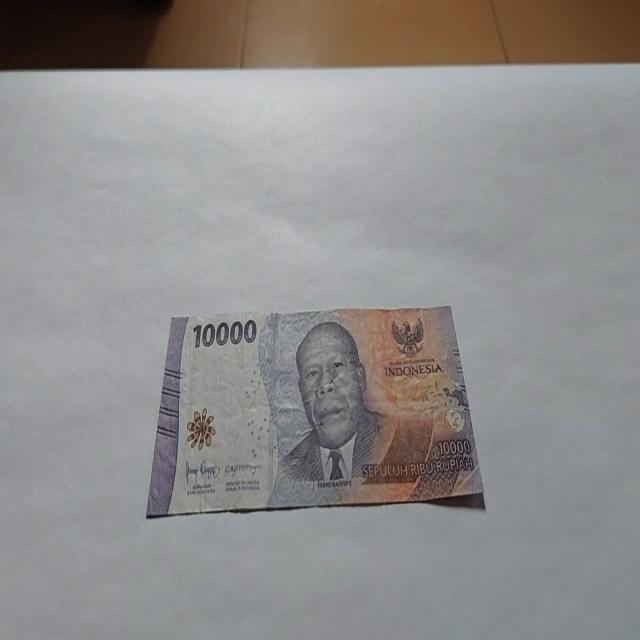sepuluh ribu rupiah: (144, 304, 486, 518)
